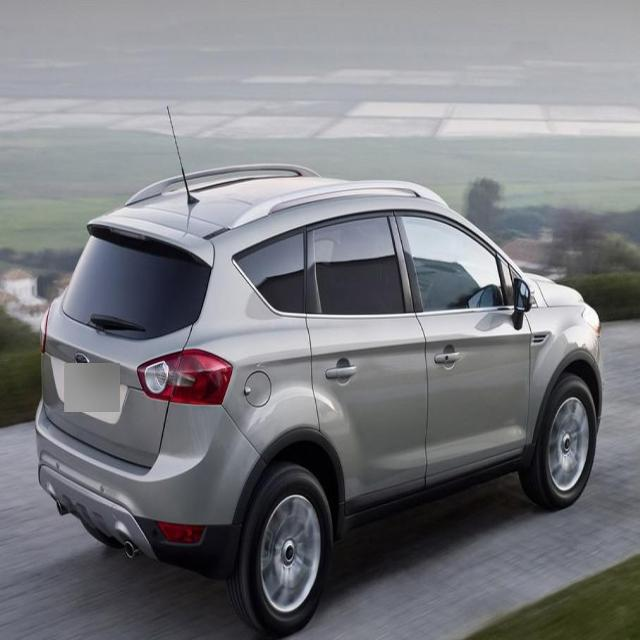back_glass: (61, 220, 213, 341)
back_right_side_light: (135, 347, 234, 408)
door: (302, 217, 431, 484)
front_right_side_door: (395, 200, 533, 491)
front_right_side_mirror: (509, 276, 535, 337)
rear_bumper: (34, 396, 267, 576)
wheel: (234, 467, 334, 635), (531, 378, 596, 510)
